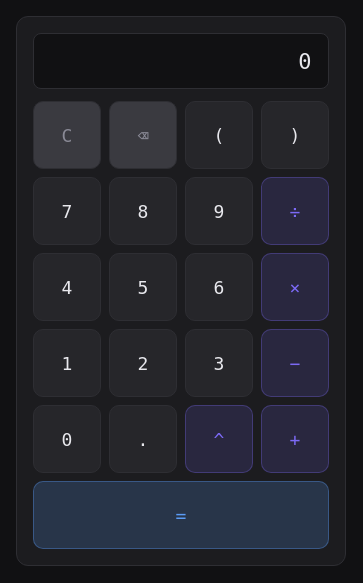
Test: Calculator › removes last char on ⌫
Click the '7' button (there is only one button labelled '7')
What coordinates should you click on to do the following:
click the button "7"
I would click on:
 (67, 211)
Its box is [33,177,101,245].
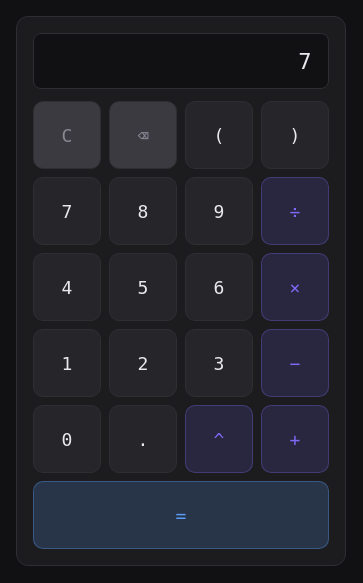
What coordinates should you click on to do the following:
click the button "8"
I would click on:
 (143, 211)
Its box is [109,177,177,245].
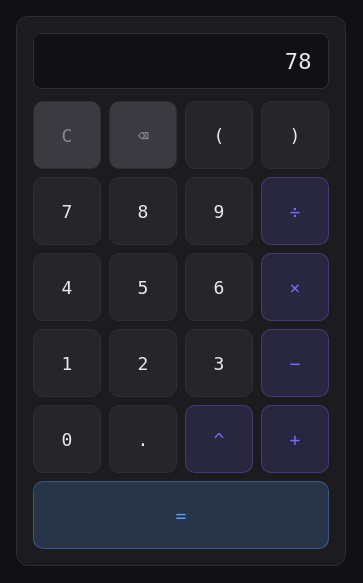
What coordinates should you click on to do the following:
click the button "⌫"
I would click on:
 (143, 135)
Its box is [109,101,177,169].
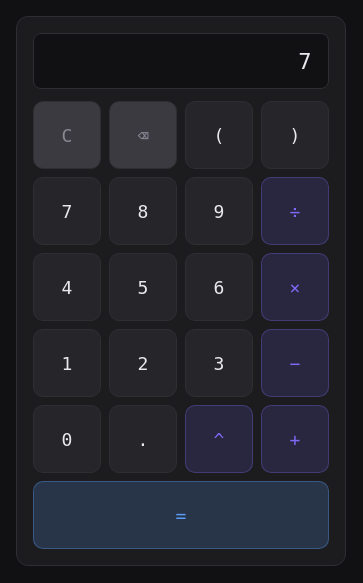
Result: the text "7" is shown at [298,48,312,74]
